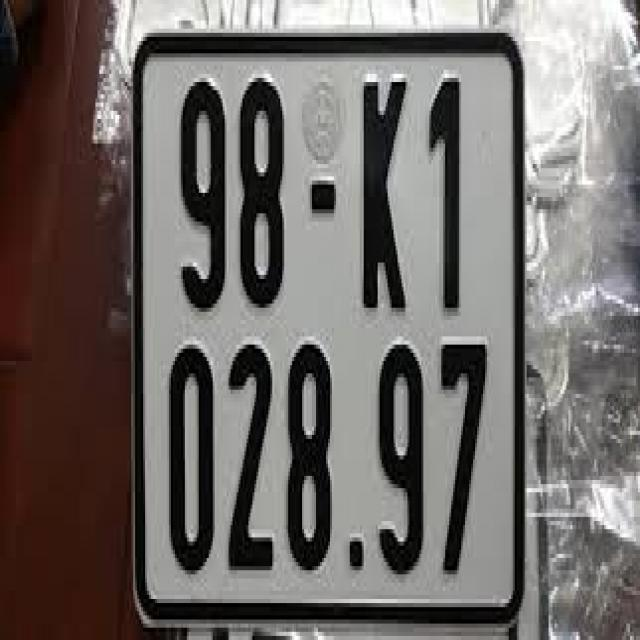0: (165, 340, 217, 574)
1: (423, 70, 471, 316)
2: (225, 337, 276, 570)
7: (433, 328, 491, 583)
8: (235, 66, 290, 312), (282, 332, 336, 574)
9: (370, 332, 427, 578), (173, 70, 228, 312)
K: (354, 70, 411, 316)
